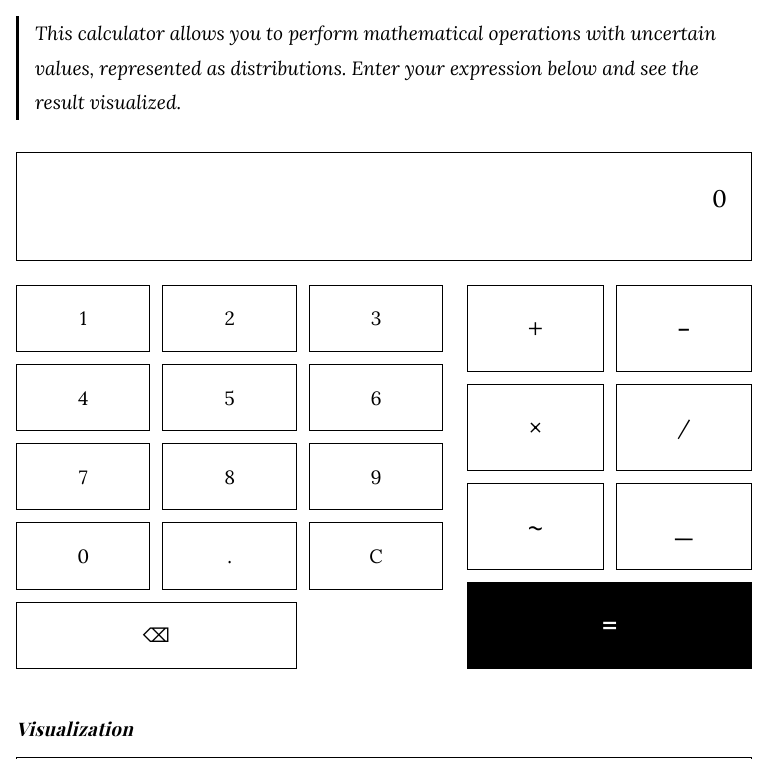
Test: Calculator.vue Integration › should handle uniform distribution input
Enter expression: 4 _ 6
Click the button "4". click: (83, 398)
box: x1=16 y1=364 x2=150 y2=431
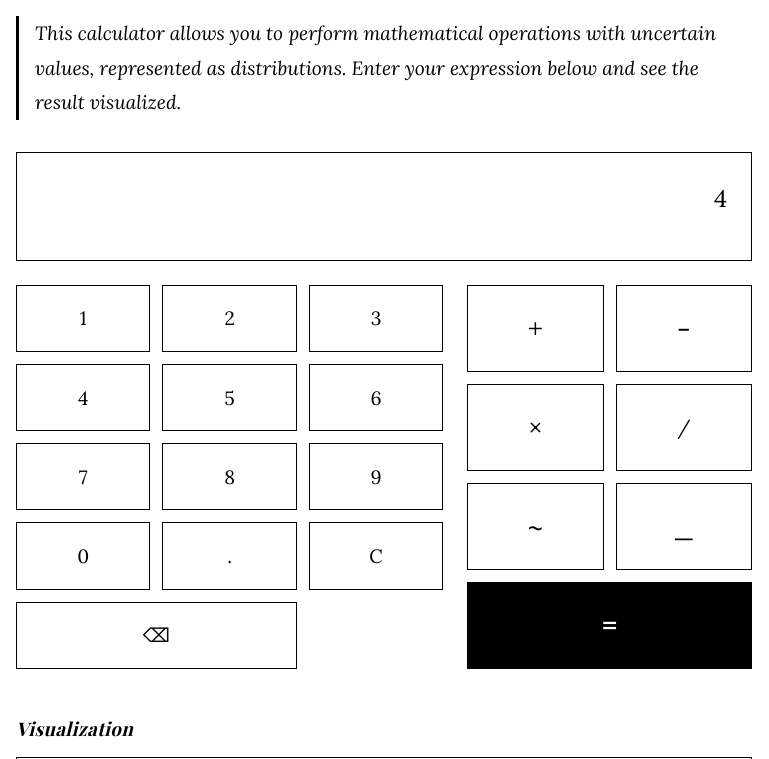
Click the button "_". click: (684, 526)
box: x1=616 y1=483 x2=752 y2=570
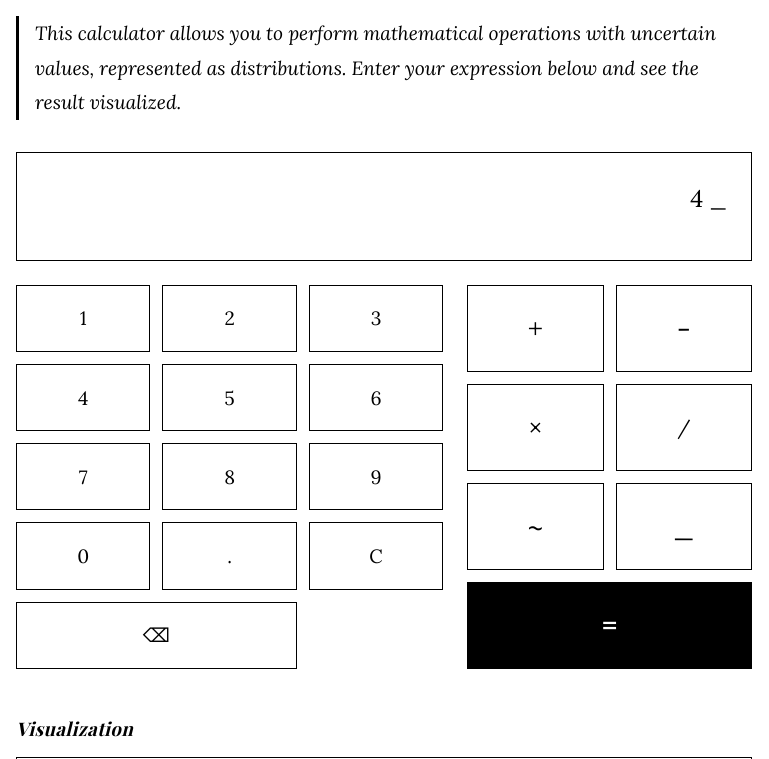
Click the button "6". click: (376, 398)
box: x1=309 y1=364 x2=443 y2=431
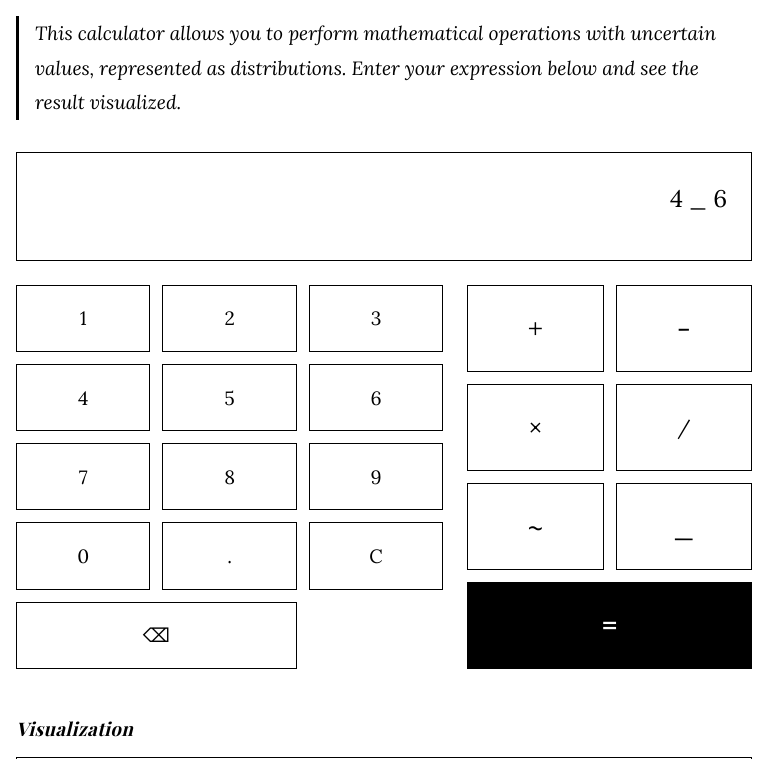
Click equals button
Click the button with class "equals-button". click: (610, 625)
box: x1=467 y1=582 x2=752 y2=669
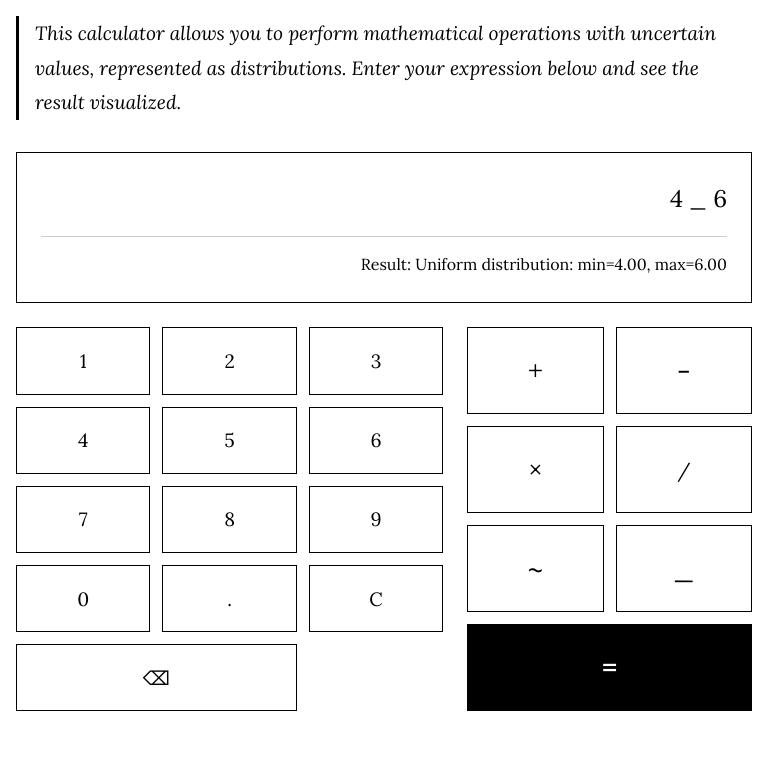
Check: the text with class "result-display" shows "Uniform distribution", box x1=361 y1=254 x2=727 y2=274
Check: the text with class "result-display" shows "min=4.00", box x1=361 y1=254 x2=727 y2=274
Check: the text with class "result-display" shows "max=6.00", box x1=361 y1=254 x2=727 y2=274
